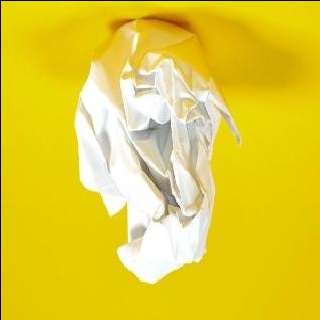8/可回收垃圾/纸: (73, 17, 240, 284)
